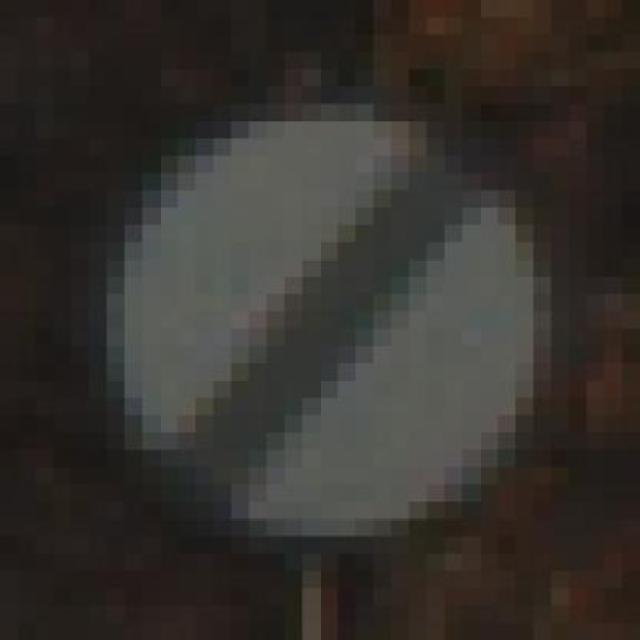End of all speed and passing limits: (106, 69, 569, 554)
